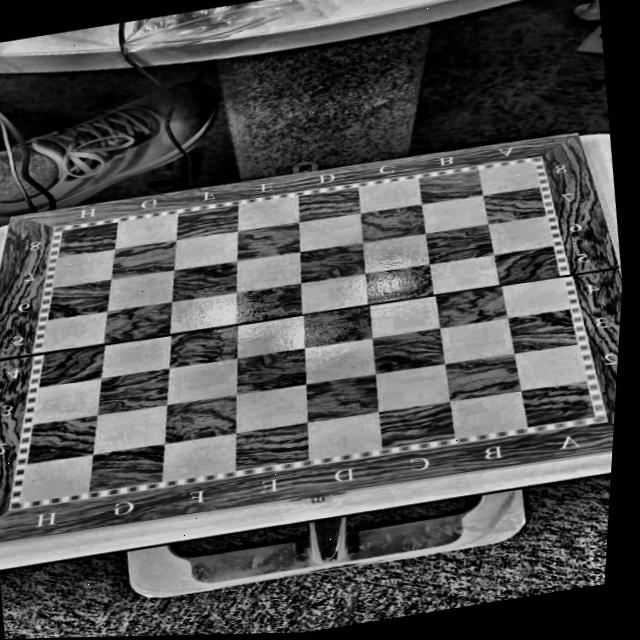chessboard: (0, 131, 622, 544)
